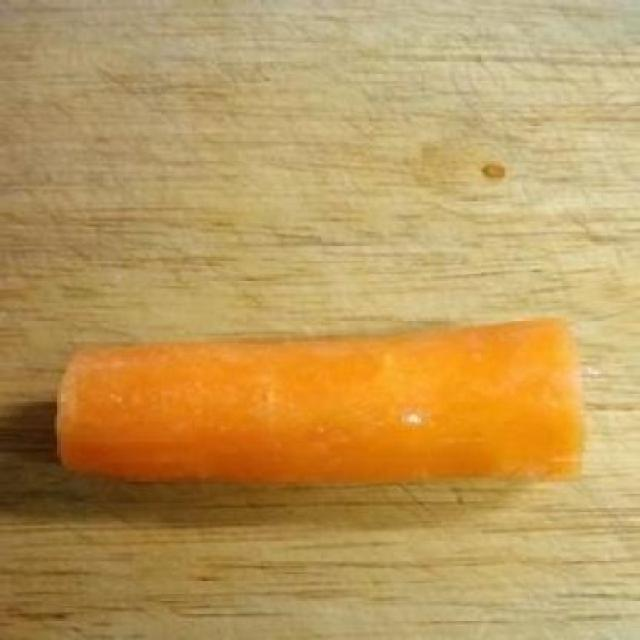carrot: (31, 312, 592, 496)
